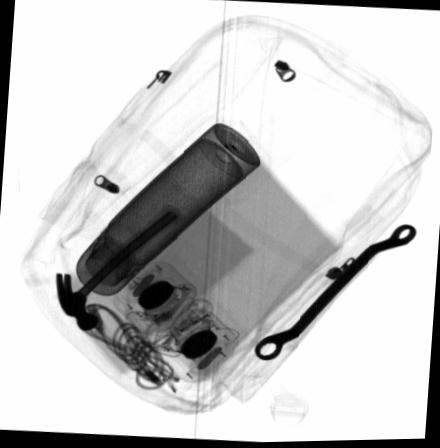Hammer: (55, 205, 179, 330)
Wrench: (254, 226, 417, 360)
